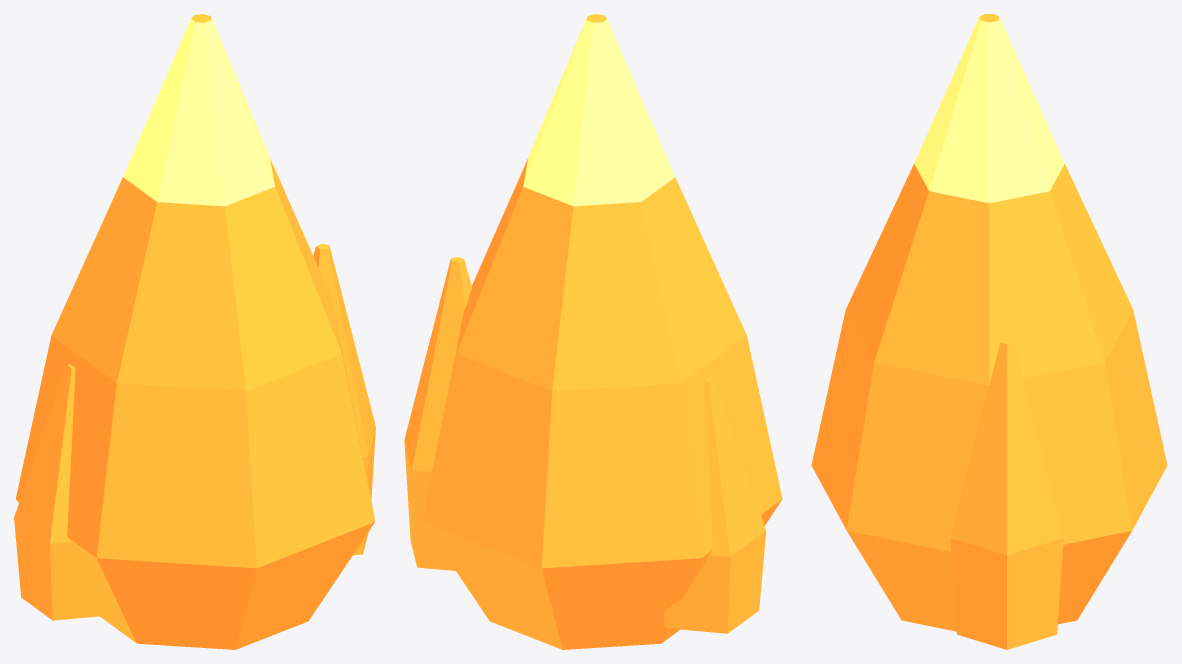
Rendered from SM_VFX_Flame_HQ.glb.
3 renders of one model, left to right at view 1: azimuth 30°, elevation 25°; view 2: azimuth 150°, elevation 25°; view 3: azimuth 270°, elevation 25°, orthographic. The views are drawn at different scales.
Parts seen in each view (by area): view 1: SM_VFX_Flame_HQ; view 2: SM_VFX_Flame_HQ; view 3: SM_VFX_Flame_HQ.
Boxes of the visible parts, left/top/right/bottom form: SM_VFX_Flame_HQ: left=14, top=14, right=375, bottom=649; SM_VFX_Flame_HQ: left=404, top=14, right=782, bottom=649; SM_VFX_Flame_HQ: left=811, top=14, right=1167, bottom=649.
Size of the model in its own units: 1.11 by 1.8 by 1.01.
1 material, 1 textured.
